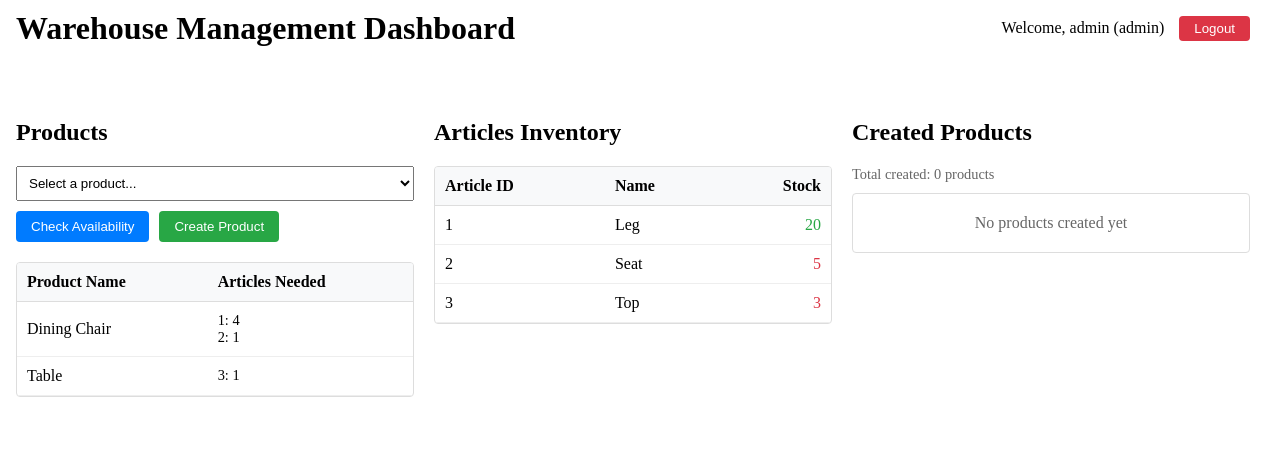
Test: Dashboard Component › shows error when creating product fails
This screenshot has width=1267, height=472.
Select "Dining Chair" in the dropdown at coordinates (215, 183), box [16, 166, 414, 201]
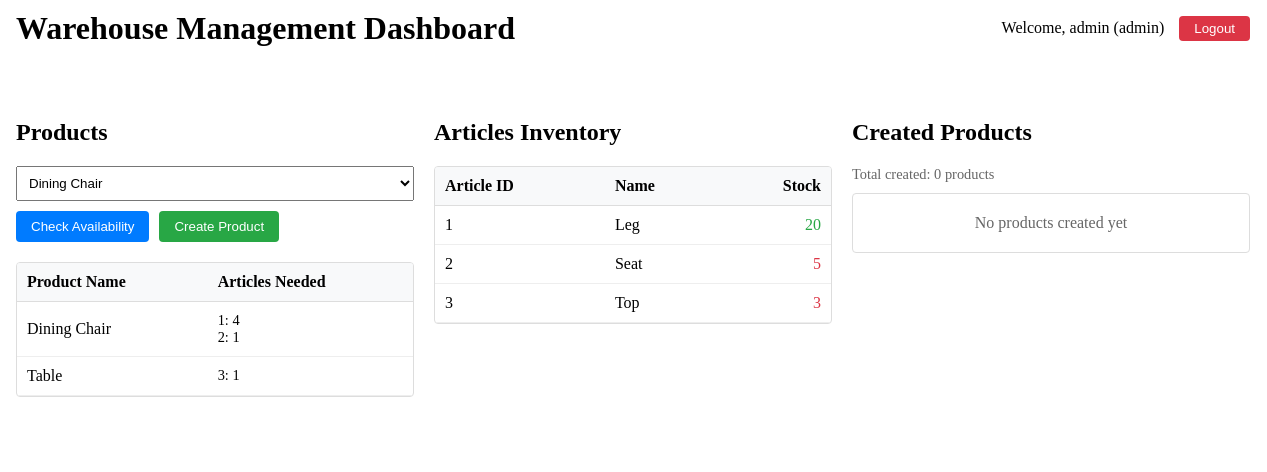
Click the button "Create Product" at coordinates (219, 226), box [160, 211, 279, 242]
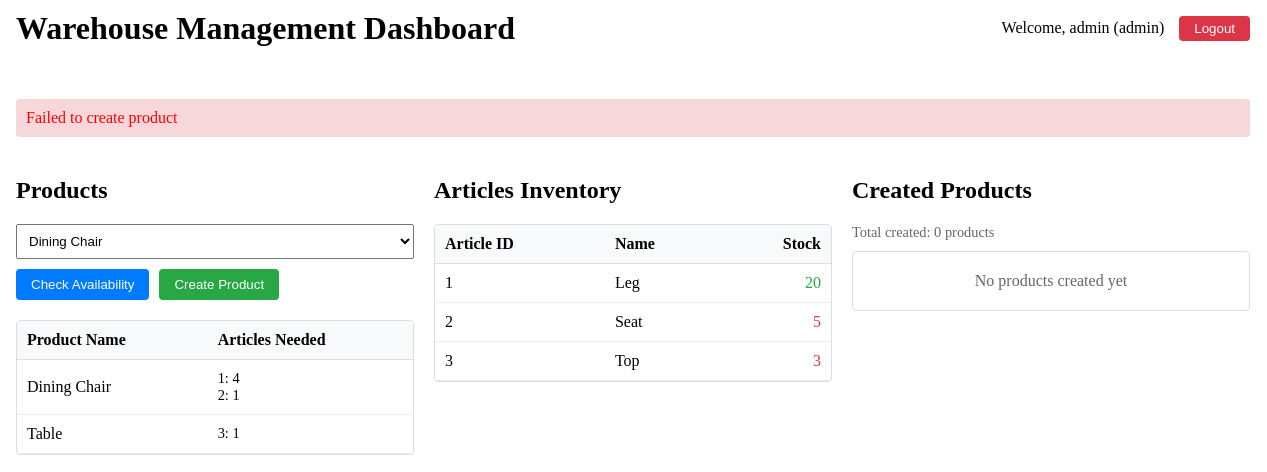
Check: the text "Failed to create product" is shown, box [16, 99, 1250, 137]
